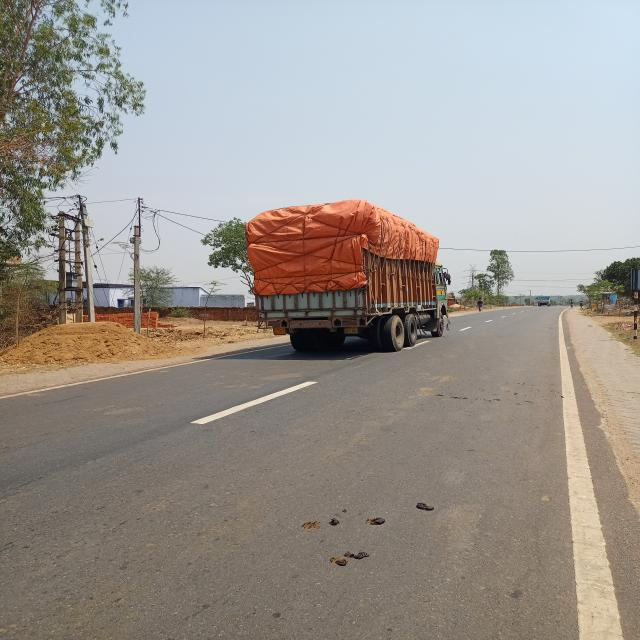Truck: (225, 194, 456, 353)
